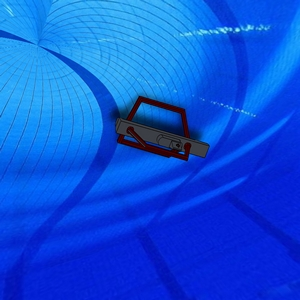submarine: (96, 78, 224, 180)
